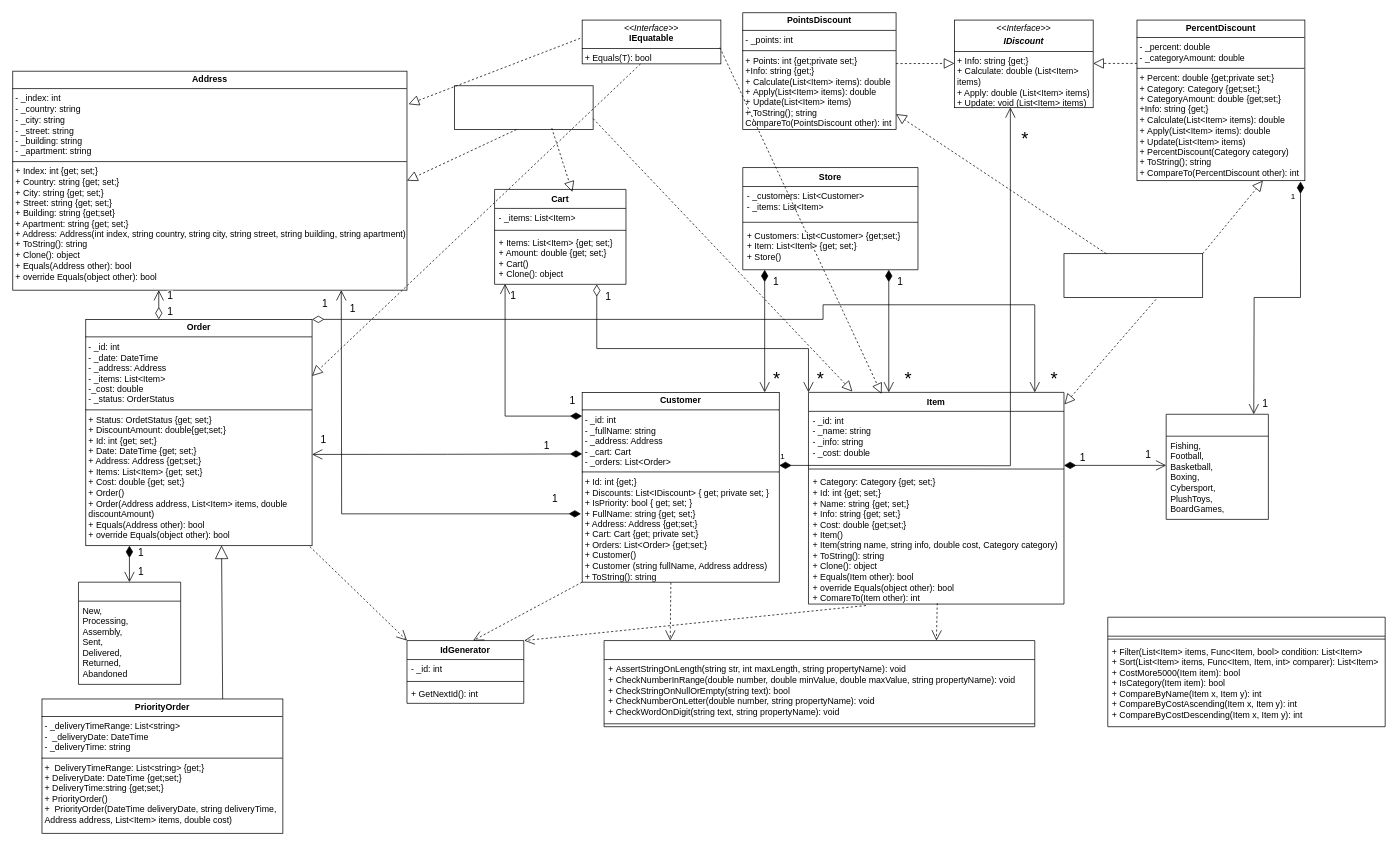
Image size: 1398x846. Some labels were removed from this diagram. The box of each missing label's shape, as (x1, y1, x2, y2) in pixels:
<<enumeration>> Category: (1165, 414, 1268, 519)
<<enumeration>> OrderStatus: (78, 581, 181, 684)
<<Interface>> ICloneable + Clone(): object: (454, 85, 593, 130)
<<Interface>> IComparable + Compare(T): int: (1063, 253, 1203, 297)
DataTools: (1107, 616, 1385, 727)
ValueValidator: (603, 640, 1035, 727)
